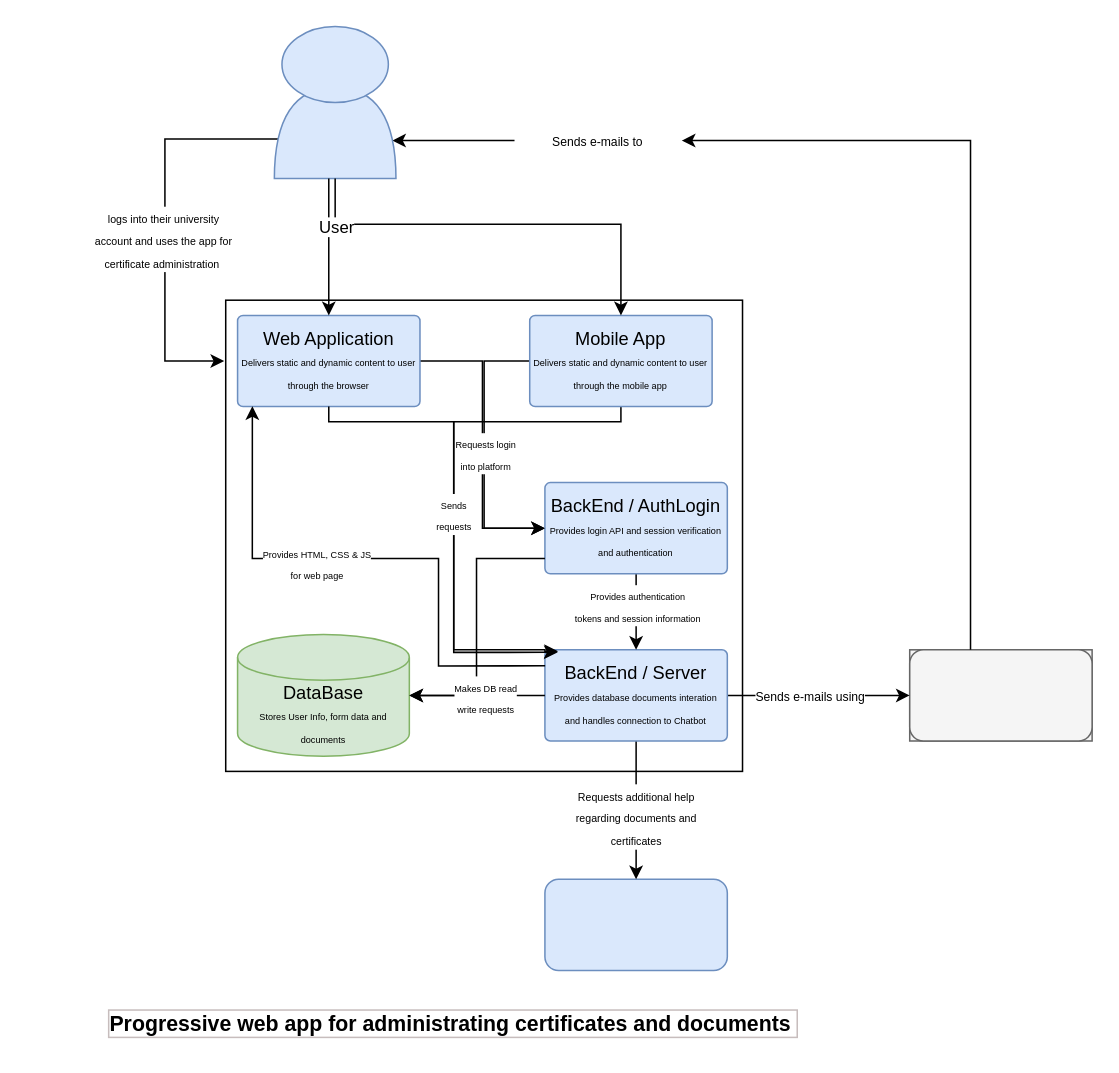
Image size: 1119x1073. Some labels were removed from this diagram. Each missing label, with the centre of its shape:
"Chatbot - Pubble [software system]" goes at [635,924].
"E-mail Software [external e-mail system]" goes at [1000,694].
"User [student, secretary, admin]" goes at [334,132].
